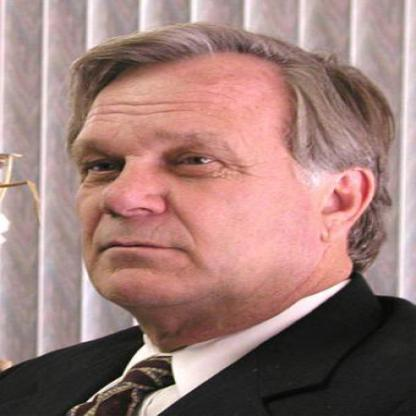face: (47, 30, 332, 324)
